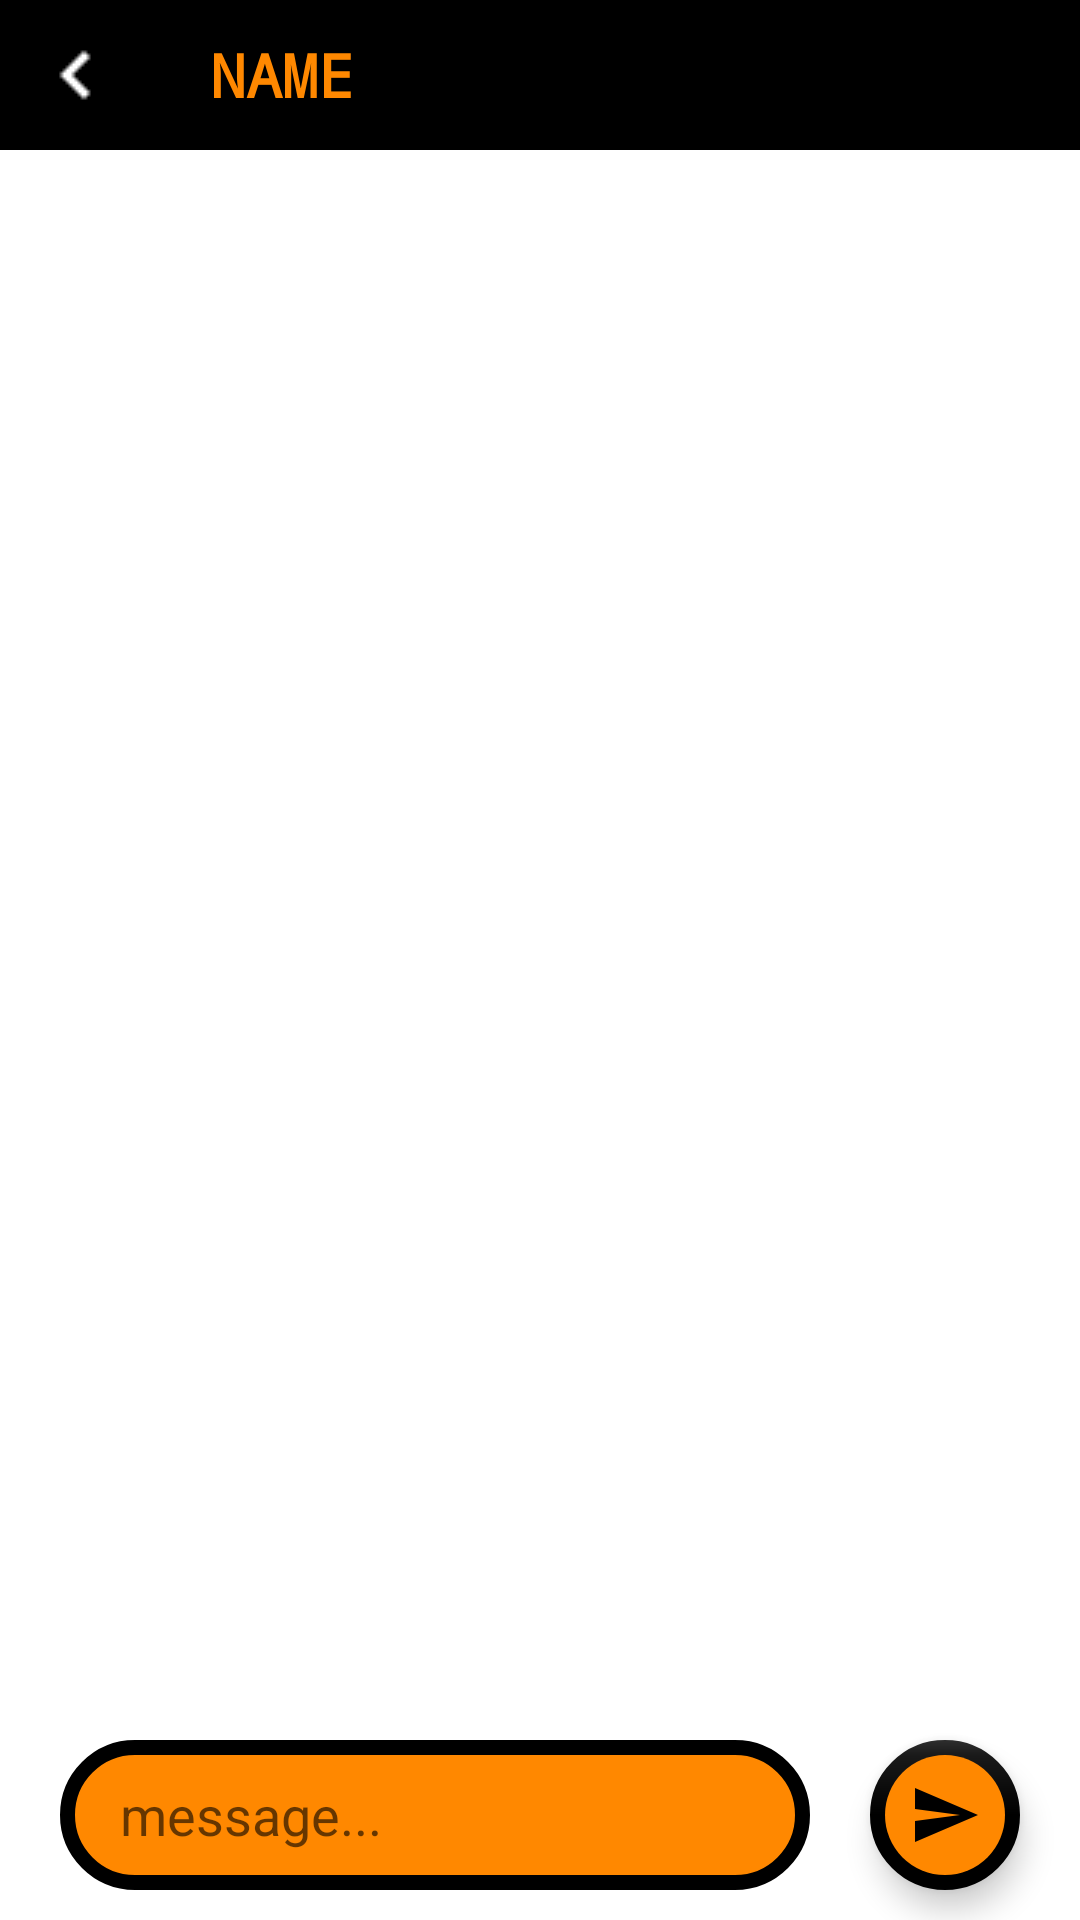

Icon bounding boxes for this 1080 × 1920 phone screenshot, format [x1=x1, y1=y1, x2=x2, y2=y2]:
back: [x1=59, y1=50, x2=91, y2=100]
